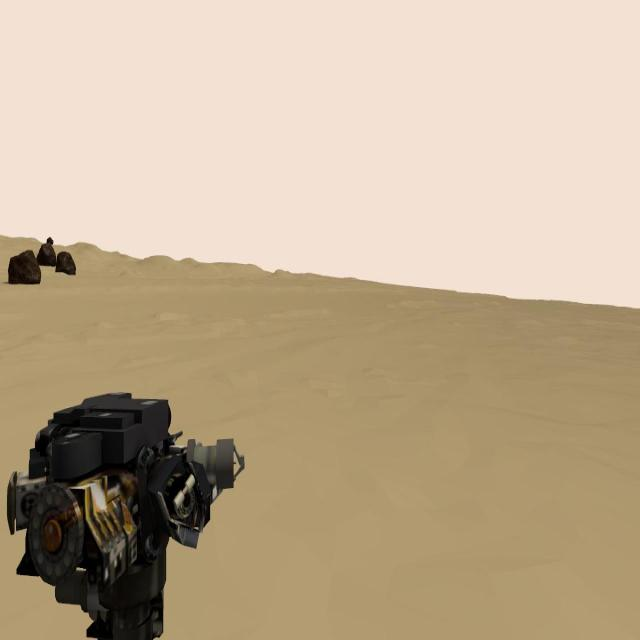rock: (7, 250, 41, 285), (56, 252, 76, 276), (36, 244, 56, 266), (47, 236, 52, 243)
